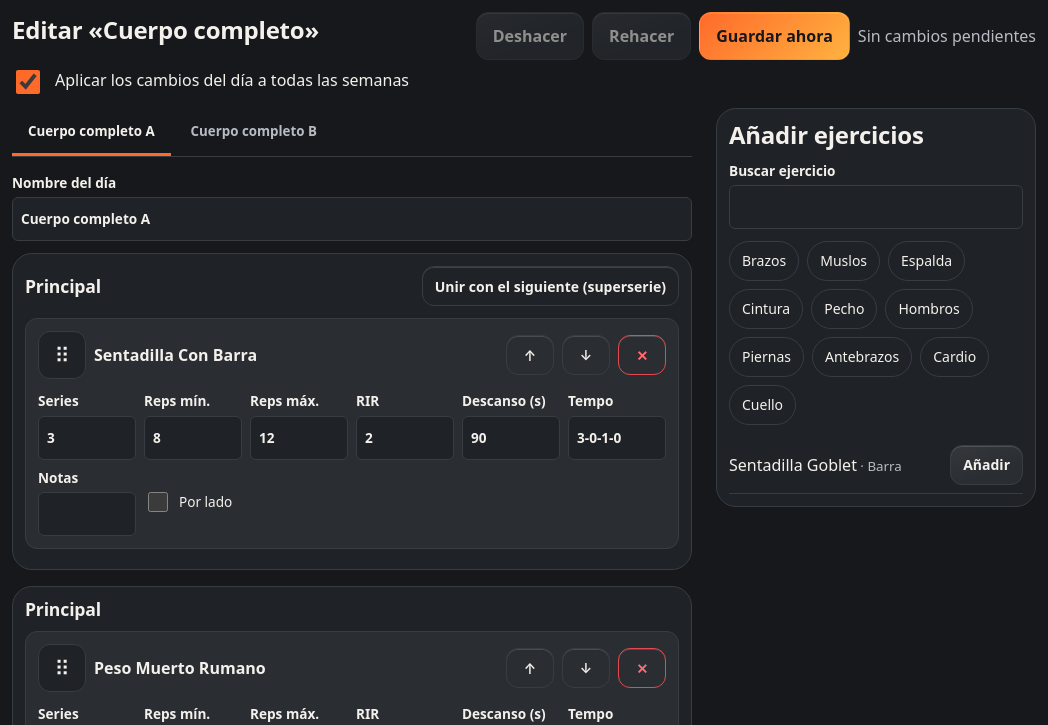
Test: EditorScreen › añade ejercicios desde el buscador lateral y muestra las reglas duras del motor (422)
expect the heading "Editar «Cuerpo completo»" is shown: met, box [12, 16, 319, 44]
Type "goblet" into the search field labelled "Buscar ejercicio" at (876, 207), box [729, 185, 1023, 229]
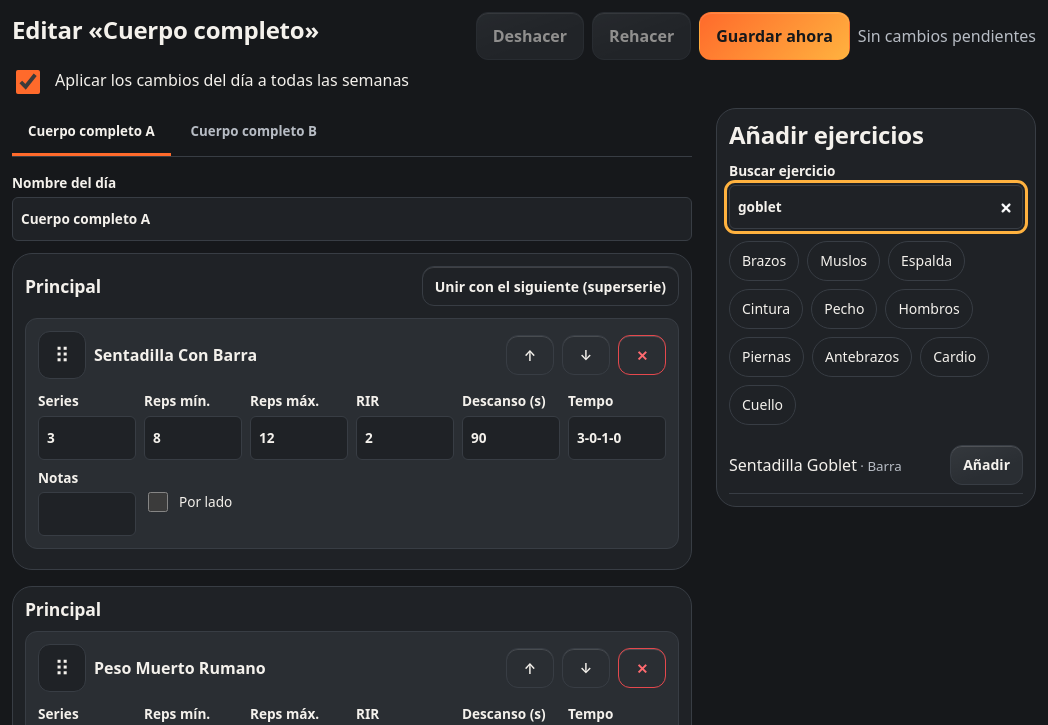
Click the button with aria-label "Añadir sentadilla goblet al día" at (987, 465), box [950, 445, 1023, 485]
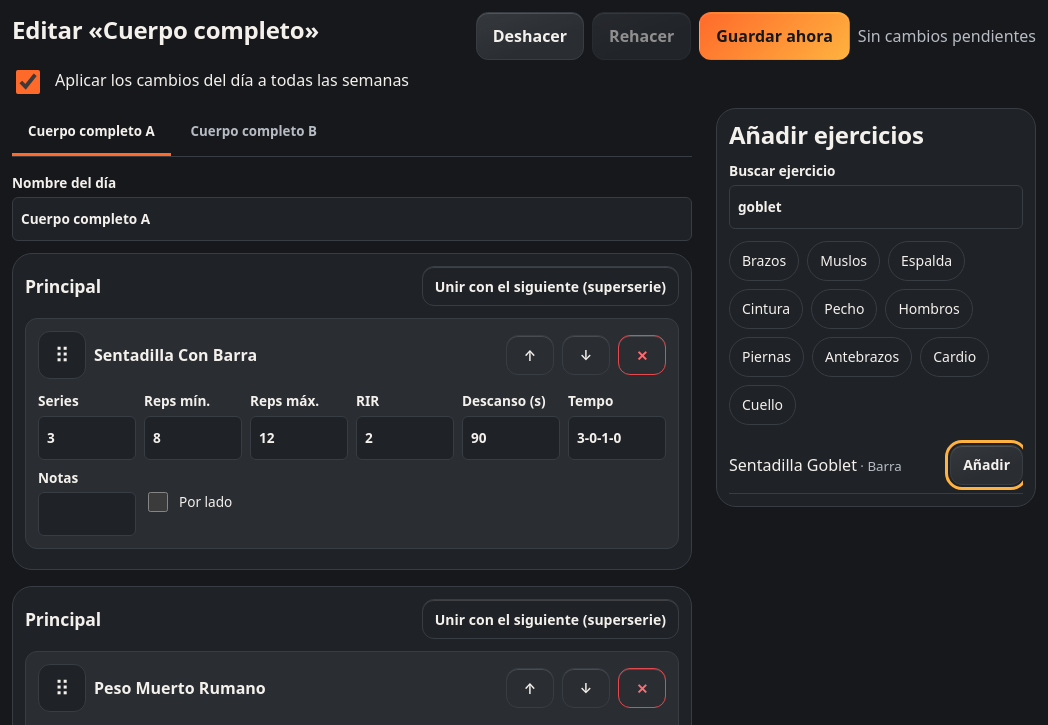
Click the button "Guardar ahora" at (774, 36), box [699, 12, 850, 60]
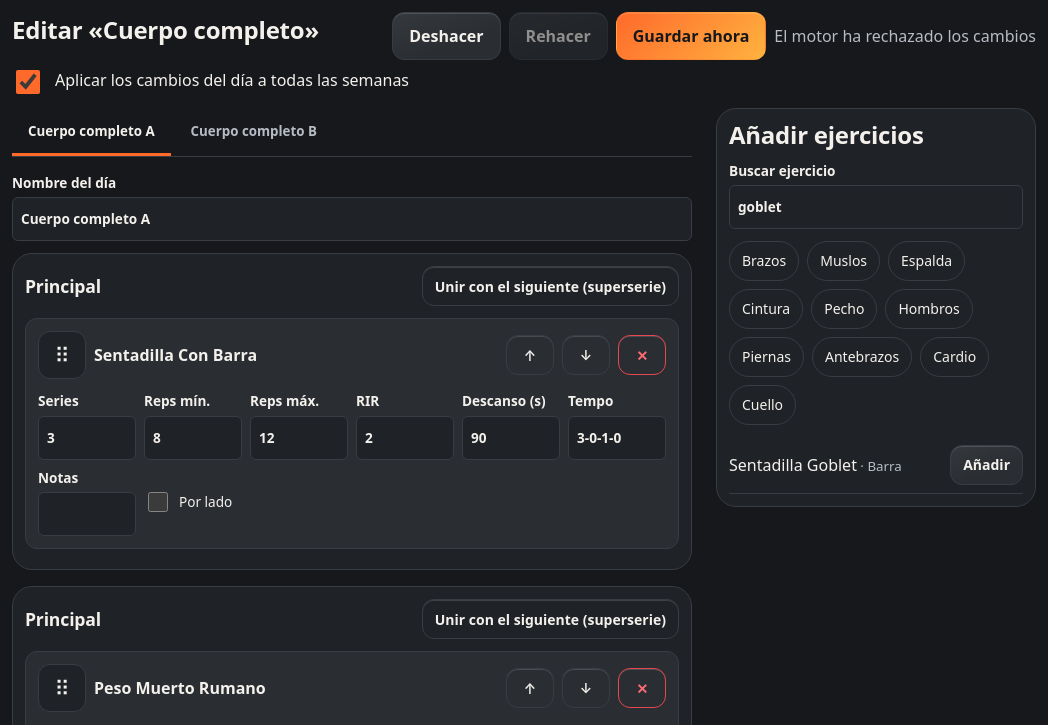
expect the text "El motor ha rechazado los cambios" is shown: met, box [774, 24, 1036, 48]
